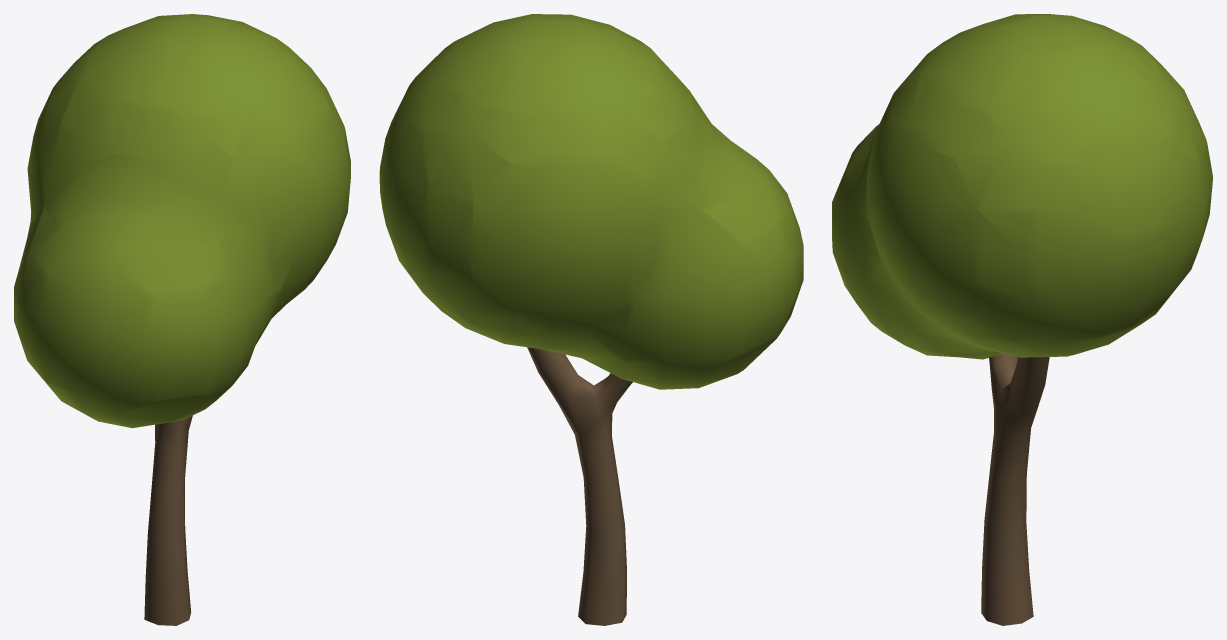
Rendered from Tree1_Env.fbx.
3 views of the same model, side by side, from view 1: azimuth 30°, elevation 25°; view 2: azimuth 150°, elevation 25°; view 3: azimuth 270°, elevation 25° (orthographic). The views are drawn at different scales.
Parts seen in each view (by area): view 1: Tree_4.001; view 2: Tree_4.001; view 3: Tree_4.001.
Part boxes in pixels (<box>): Tree_4.001: <box>14,14,350,625</box>; Tree_4.001: <box>379,14,803,625</box>; Tree_4.001: <box>832,14,1212,625</box>.
Bounding box in the file's own units: 125 × 203 × 116.
